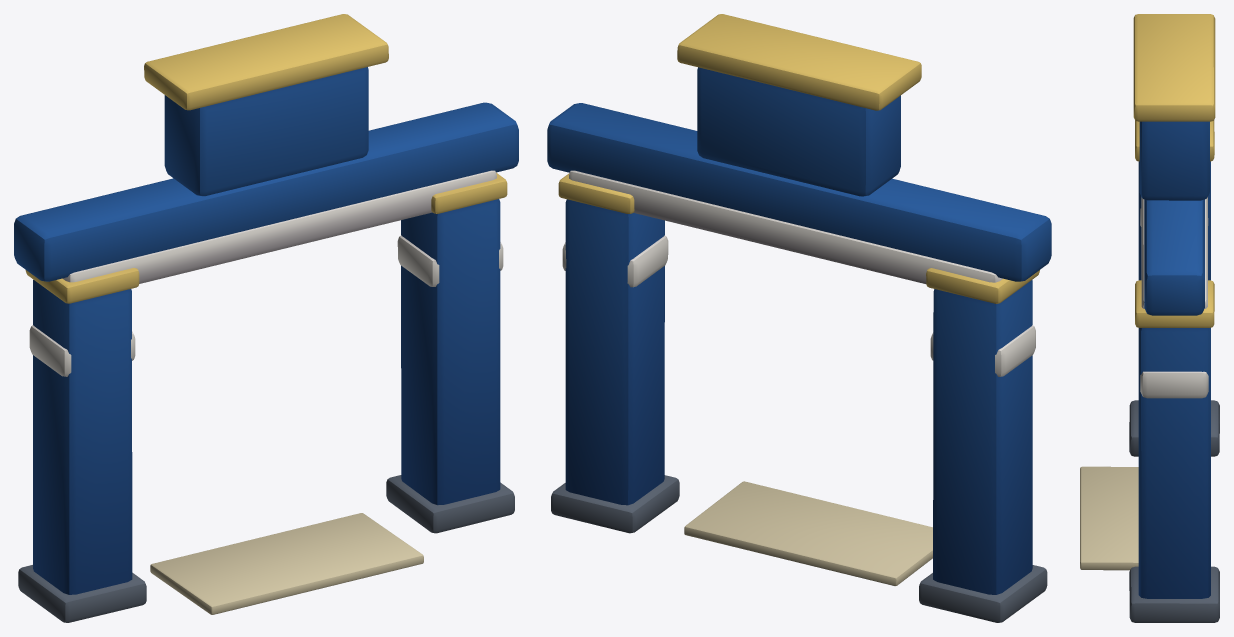
3 renders of one model, left to right at view 1: azimuth 30°, elevation 25°; view 2: azimuth 150°, elevation 25°; view 3: azimuth 270°, elevation 25°, orthographic. The views are drawn at different scales.
Parts seen in each view (by area): view 1: gate_d192a054; view 2: gate_d192a054; view 3: gate_d192a054.
Boxes of the visible parts, x1,y1,x2,y2 form: gate_d192a054: (14,14,518,622); gate_d192a054: (547,14,1051,622); gate_d192a054: (1080,14,1219,622).
Bounding box in the file's own units: 5.39 × 5.4 × 1.47.
